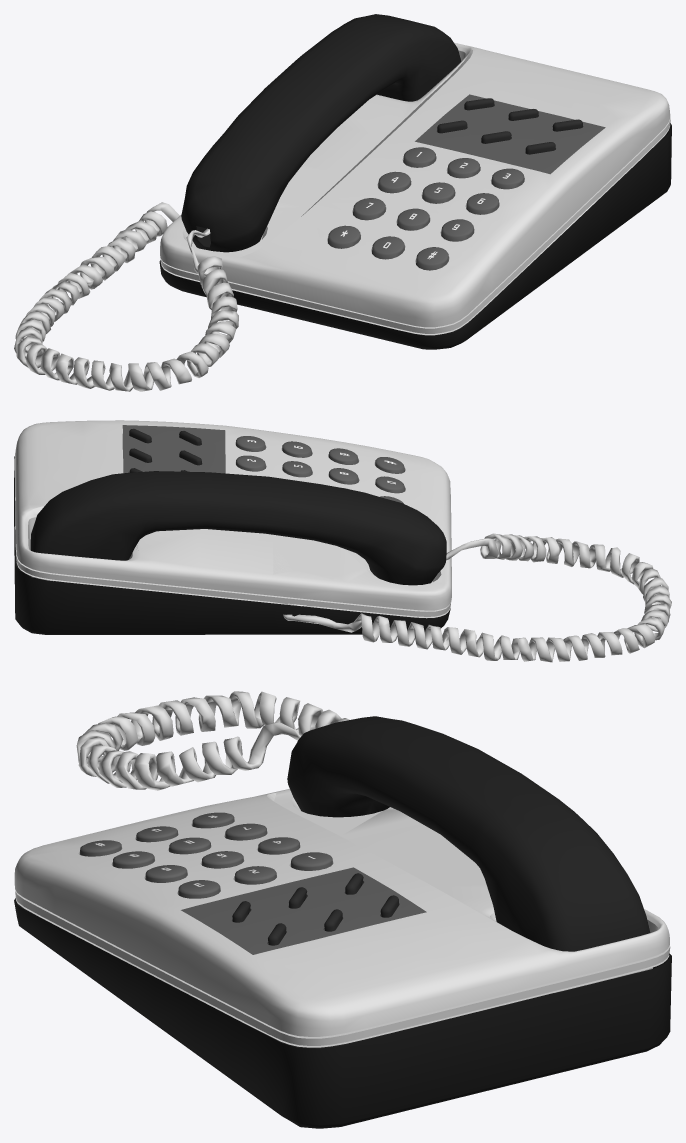
Rendered from telephone.glb.
3 renders of one model, top to bottom at view 1: azimuth 30°, elevation 25°; view 2: azimuth 150°, elevation 25°; view 3: azimuth 270°, elevation 25°, orthographic. The views are drawn at different scales.
Parts seen in each view (by area): view 1: Telephone; view 2: Telephone; view 3: Telephone.
Boxes of the visible parts, bbox=[...] form: Telephone: bbox=[14, 14, 671, 391]; Telephone: bbox=[14, 420, 671, 662]; Telephone: bbox=[14, 691, 671, 1128].
Bounding box in the file's own units: 0.4249 × 0.0919 × 0.2807.
1 material, 1 textured.
